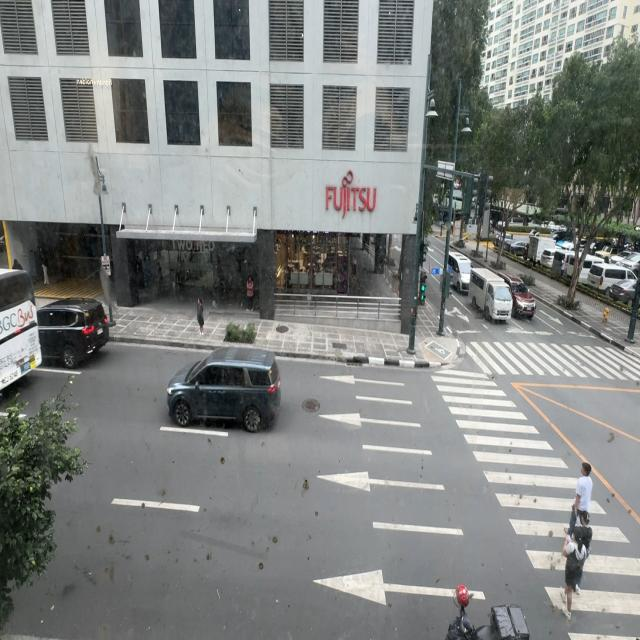crossing: (562, 520, 590, 618), (555, 520, 585, 606), (568, 464, 592, 538), (576, 512, 591, 564)
